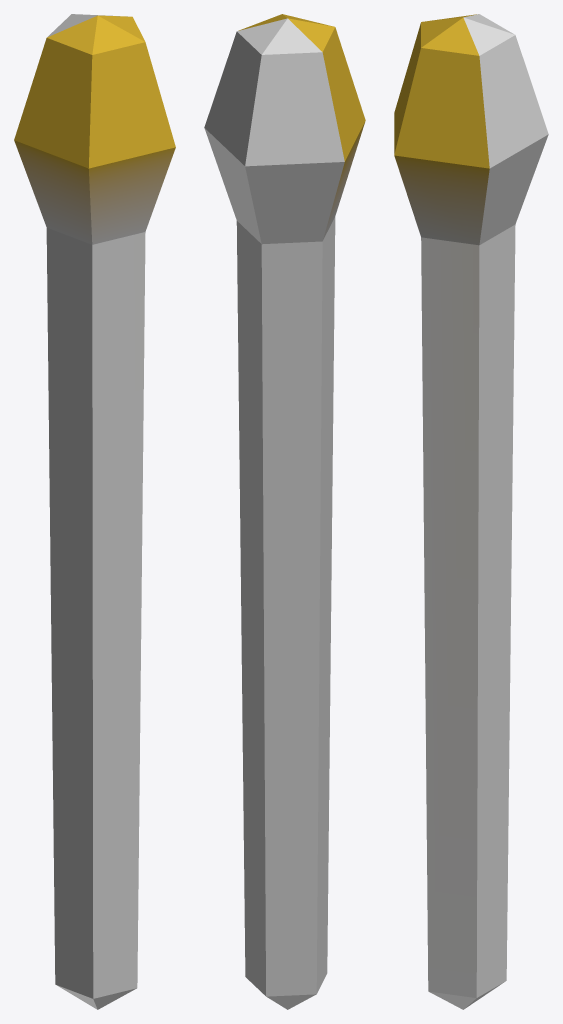
File: torch.dae
3 renders of one model, left to right at view 1: azimuth 30°, elevation 25°; view 2: azimuth 150°, elevation 25°; view 3: azimuth 270°, elevation 25°, orthographic.
Visible parts, largest first — view 1: Circle_002; view 2: Circle_002; view 3: Circle_002.
Part boxes in pixels (x1=…): Circle_002: x1=14, y1=14, x2=175, y2=1009; Circle_002: x1=204, y1=14, x2=365, y2=1009; Circle_002: x1=394, y1=14, x2=548, y2=1009.
Bounding box in the file's own units: 0.0914 × 0.0869 × 0.616.
